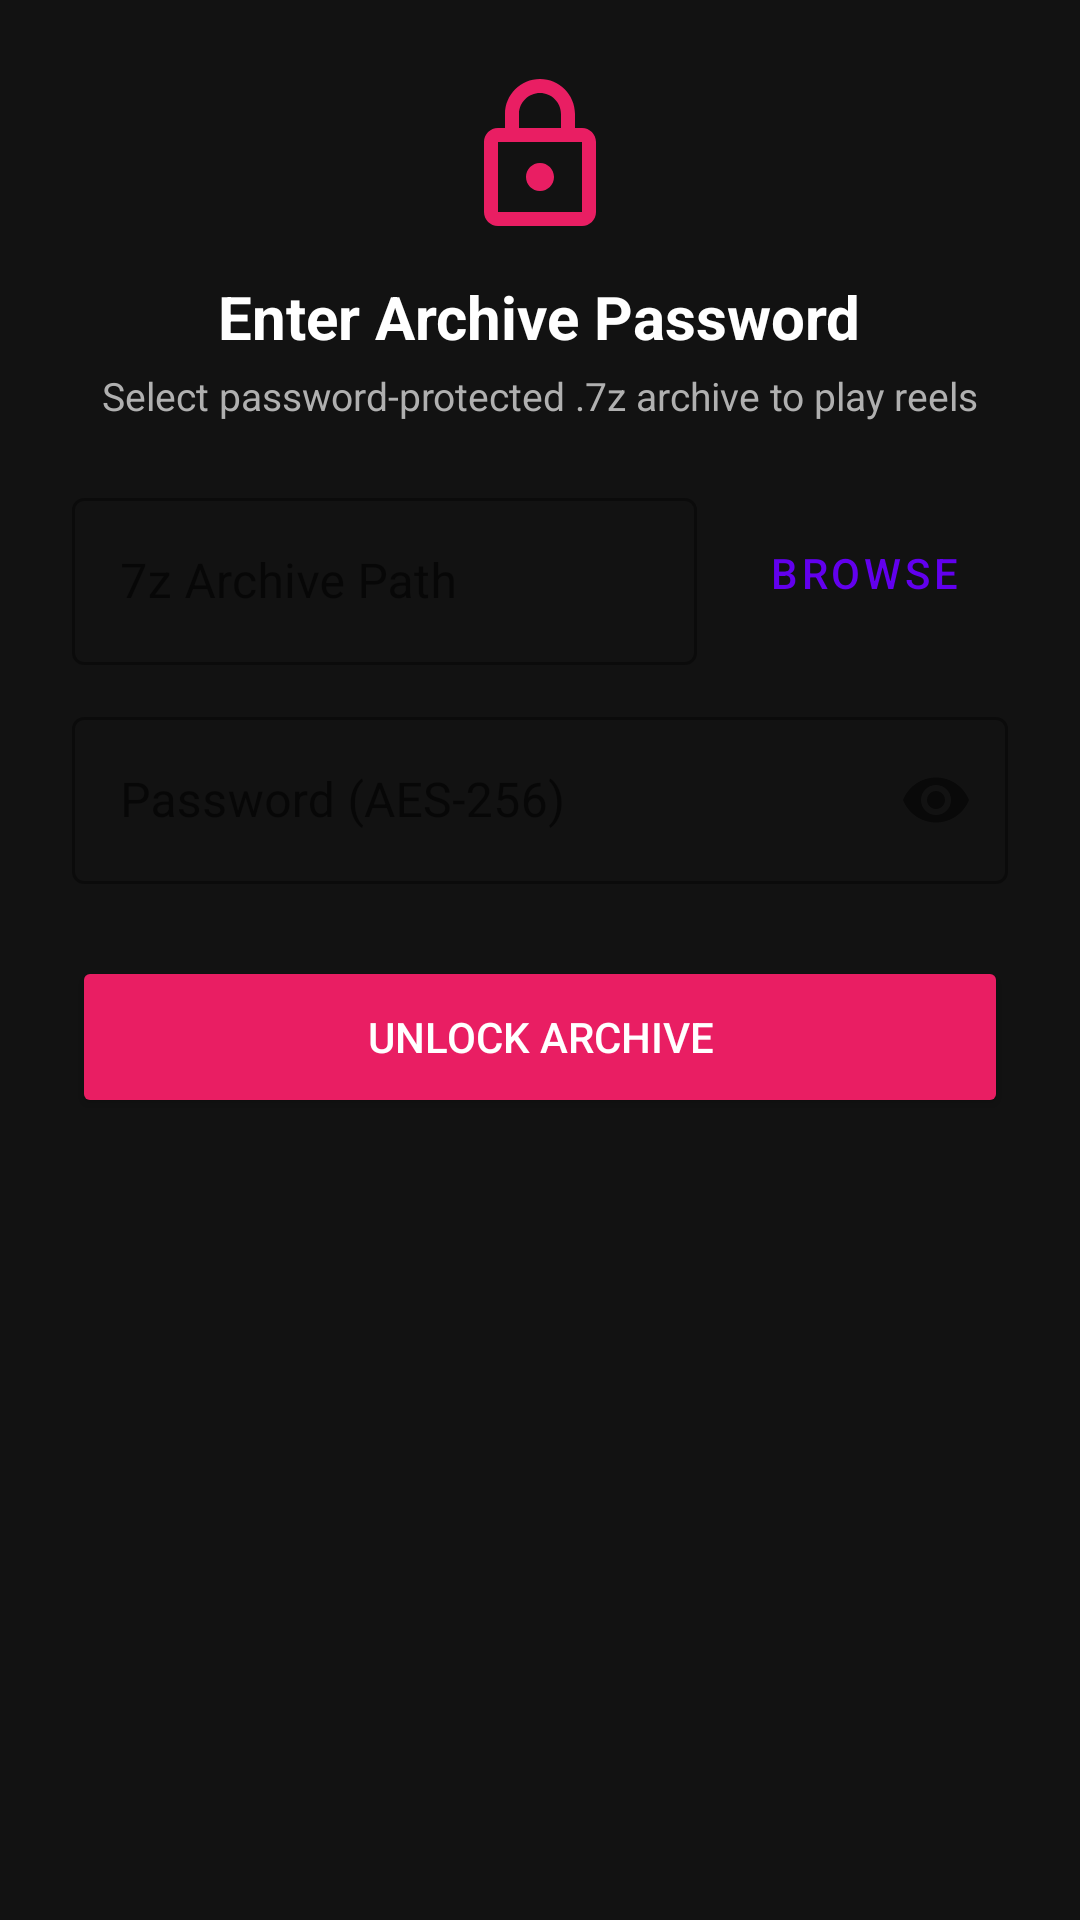

Icon click points for this 1080×1920 phone screenshot, format (x=x, y=y):
lock: (x=540, y=152)
